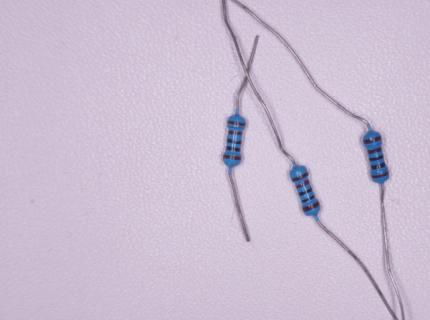Brown band: (367, 147, 382, 154), (228, 130, 242, 135)
